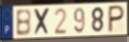2: (53, 7, 68, 36)
8: (91, 6, 105, 34)
9: (73, 7, 85, 34)
B: (15, 8, 32, 37)
P: (107, 5, 126, 34)
X: (33, 7, 51, 37)
